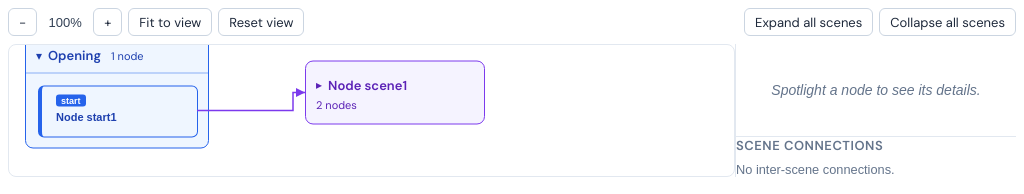
Test: CanvasView — collapsible scenes › expands and collapses every scene from the toolbar
The width and height of the screenshot is (1024, 194).
Click the button "Expand all scenes" at (809, 22), box [744, 8, 873, 36]
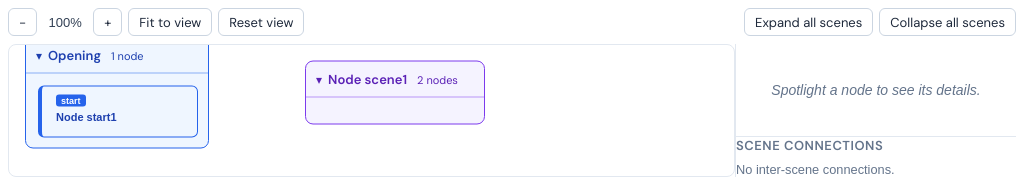
Result: the button "▾ Node scene1 2 nodes" is expanded at [306, 62, 484, 98]
Click the button "Collapse all scenes" at (948, 22), box [879, 8, 1016, 36]
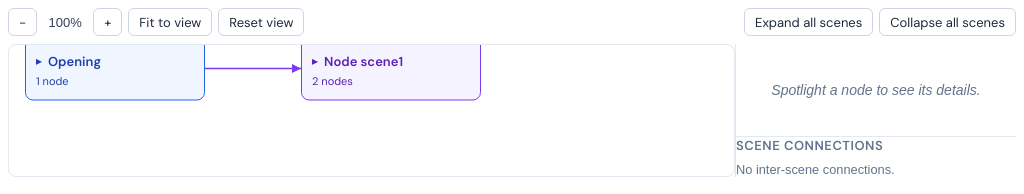
Result: the button "▸ Opening 1 node" is collapsed at [26, 44, 204, 102]
Result: the button "▸ Node scene1 2 nodes" is collapsed at [302, 44, 480, 102]
